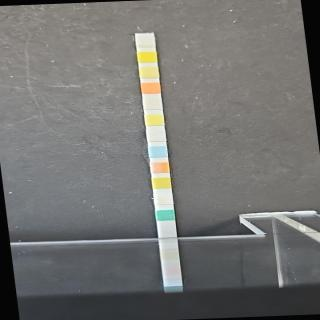mark: (139, 67, 159, 80), (148, 146, 168, 159), (150, 161, 169, 174), (141, 82, 161, 94), (147, 130, 167, 142), (155, 209, 175, 221), (154, 193, 173, 205), (152, 178, 170, 190), (136, 37, 155, 48), (143, 98, 162, 109), (138, 52, 158, 62), (145, 114, 163, 125)
